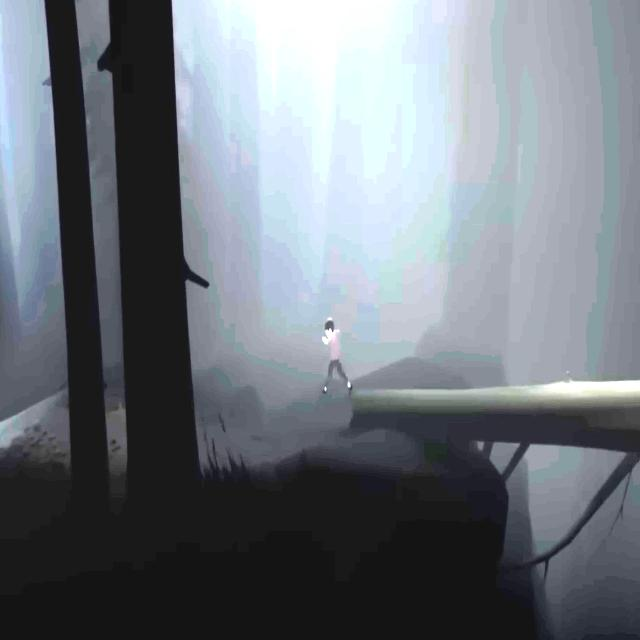boy: (323, 320, 351, 394)
